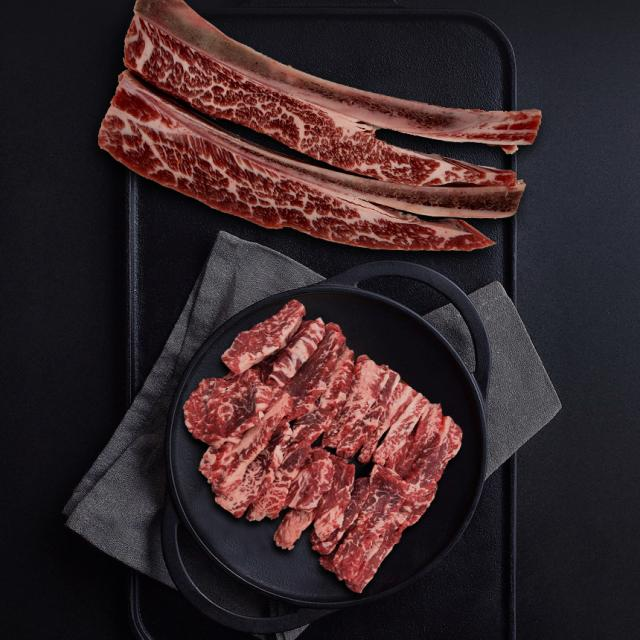beef: (126, 39, 466, 233), (224, 340, 422, 553)
